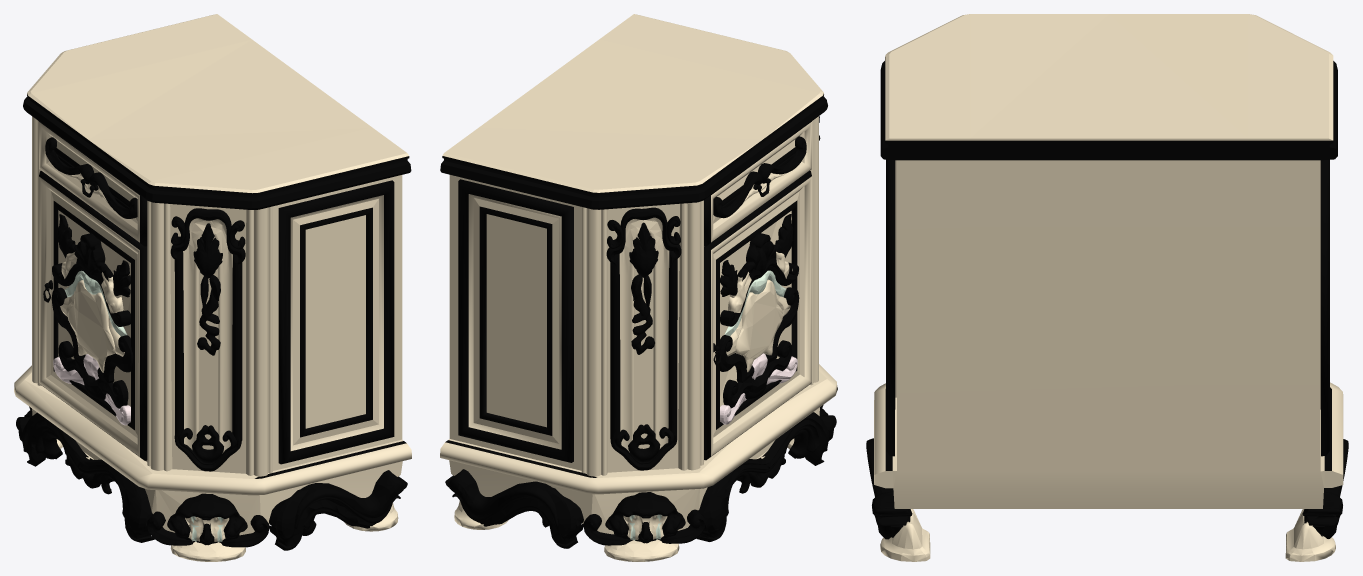
File: Cabinet.FBX
3 renders of one model, left to right at view 1: azimuth 30°, elevation 25°; view 2: azimuth 150°, elevation 25°; view 3: azimuth 270°, elevation 25°, orthographic. The views are drawn at different scales.
Visible parts, largest first — view 1: CG01-07; view 2: CG01-07; view 3: CG01-07.
Boxes of the visible parts, x1=… form: CG01-07: x1=14, y1=14, x2=411, y2=561; CG01-07: x1=440, y1=14, x2=837, y2=561; CG01-07: x1=866, y1=14, x2=1348, y2=561.
Size of the model in its own units: 47.83 by 71.29 by 73.24.
